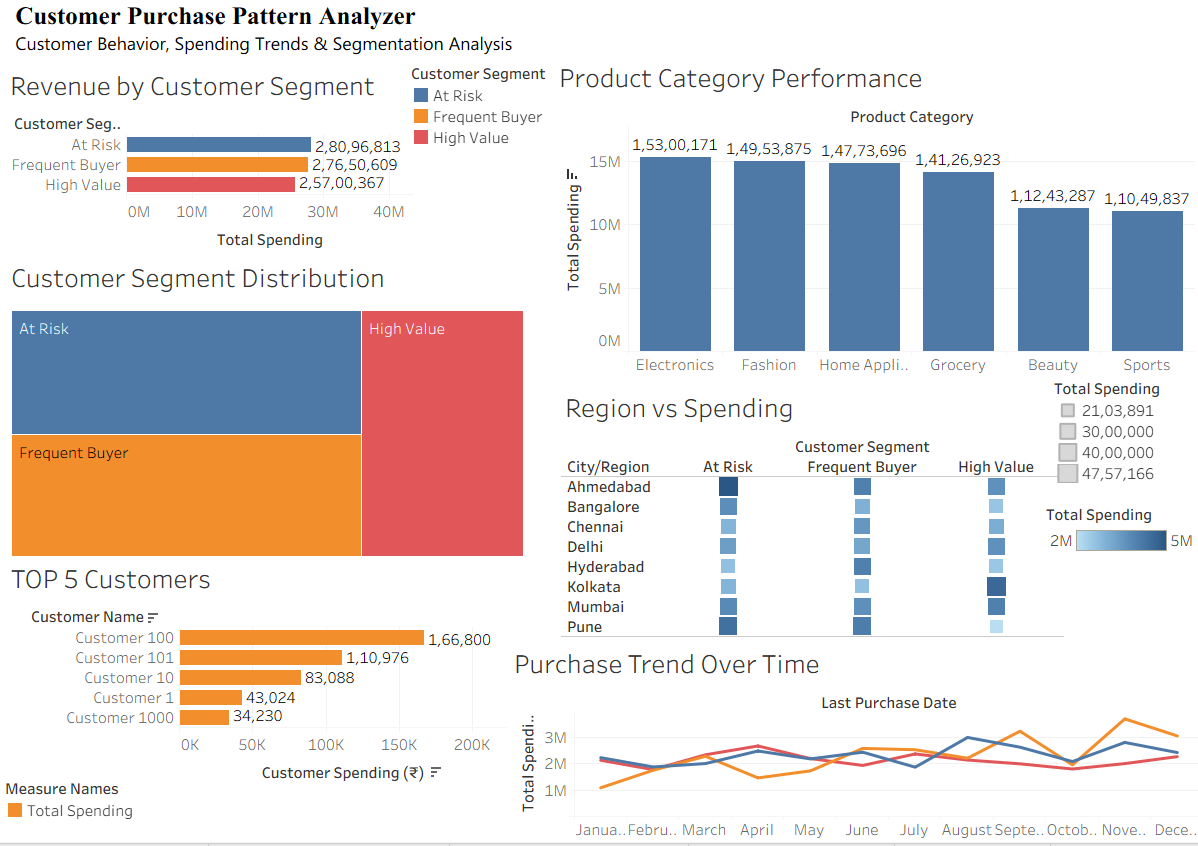

What the dashboard file says about the page in this screenshot:
{"tool":"tableau","page":{"name":"Dashboard 1","canvas":[1000,1000],"units":"permille","ordinal":0},"visuals":[{"type":"title","box":[6.7,9.4,986.7,71.6]},{"type":"worksheet","title":"Product Category Performance","mark":"Bar","rows":["Total Spending"],"cols":["Product Category"],"box":[462.5,77.5,533.3,393.2]},{"type":"legend","title":"Revenue by Customer Segment","param":"[federated.0vw1gz5131oti116s0tco12v9h1c].[none:Customer Segment:nk]","box":[342.5,85.7,116.7,99.8]},{"type":"worksheet","title":"Revenue by Customer Segment","mark":"Bar","rows":["Customer Segment"],"cols":["Total Spending"],"box":[5,86.9,340,243]},{"type":"worksheet","title":"Customer Segment Distribution","mark":"Automatic","box":[5.8,312.2,460.8,356.8]},{"type":"legend","title":"Region vs Spending","param":"[federated.0vw1gz5131oti116s0tco12v9h1c].[sum:Total Spending:qk]","box":[878.3,455.4,116.7,139.7]},{"type":"worksheet","title":"Region vs Spending","mark":"Square","rows":["City/Region"],"cols":["Customer Segment"],"box":[467.5,464.8,420,299.3]},{"type":"legend","title":"Region vs Spending","param":"[federated.0vw1gz5131oti116s0tco12v9h1c].[sum:Total Spending:qk]","box":[871.7,603.3,126.7,103.3]},{"type":"worksheet","title":"TOP 5 Customers","mark":"Automatic","rows":["Customer Name"],"cols":["Total Spending"],"box":[5.8,665.5,416.7,332.2]},{"type":"worksheet","title":"Purchase Trend Over Time","mark":"Line","rows":["Total Spending"],"cols":["Last Purchase Date"],"box":[425,765.3,577.5,233.6]},{"type":"legend","title":"TOP 5 Customers","param":"[federated.0vw1gz5131oti116s0tco12v9h1c].[:Measure Names]","box":[4.2,924.9,116.7,71.6]}]}

Visuals, with their boxes on the dashboard's canvas, which has no fixed pixel size, in thousandths of its width and height (x1, y1, x2, y2). These are canvas units, not pixel positions in the 1198x846 screenshot, which may show the page scaled, cropped or inside an application window:
title: 7:9:993:81
"Product Category Performance" worksheet (Bar marks): 462:78:996:471
"Revenue by Customer Segment" legend: 342:86:459:186
"Revenue by Customer Segment" worksheet (Bar marks): 5:87:345:330
"Customer Segment Distribution" worksheet: 6:312:467:669
"Region vs Spending" legend: 878:455:995:595
"Region vs Spending" worksheet (Square marks): 468:465:888:764
"Region vs Spending" legend: 872:603:998:707
"TOP 5 Customers" worksheet: 6:666:422:998
"Purchase Trend Over Time" worksheet (Line marks): 425:765:1002:999
"TOP 5 Customers" legend: 4:925:121:996
